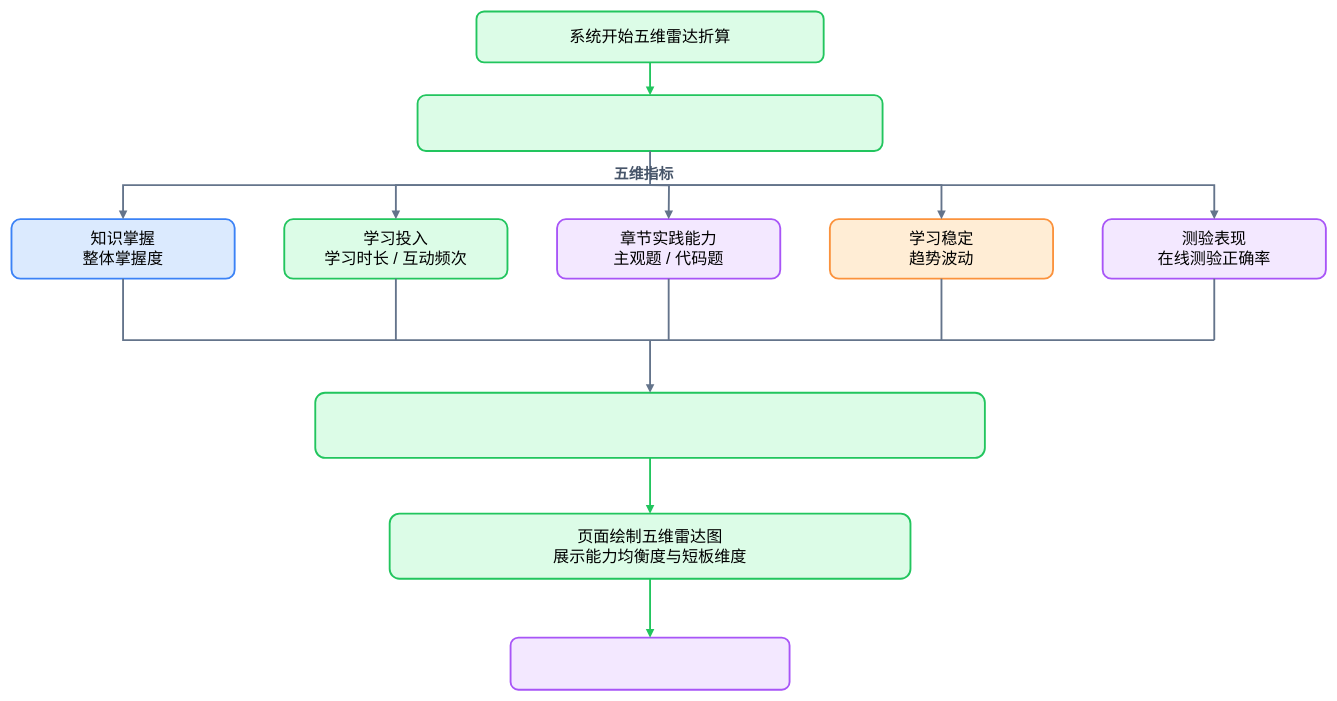
Image size: 1337x701. Some labels were removed from this diagram. The shapes that lost their labels are listed below. From the top down, each one's box as (x1, y1, x2, y2) in pixels, then its label:
(416, 94, 883, 152): 系统读取五类画像指标 知识 / 投入 / 实践 / 稳定 / 测验
(314, 392, 985, 458): 系统按维度独立折算到 0-100 代码题权重高于普通主观题
(509, 636, 790, 690): 折算结束
